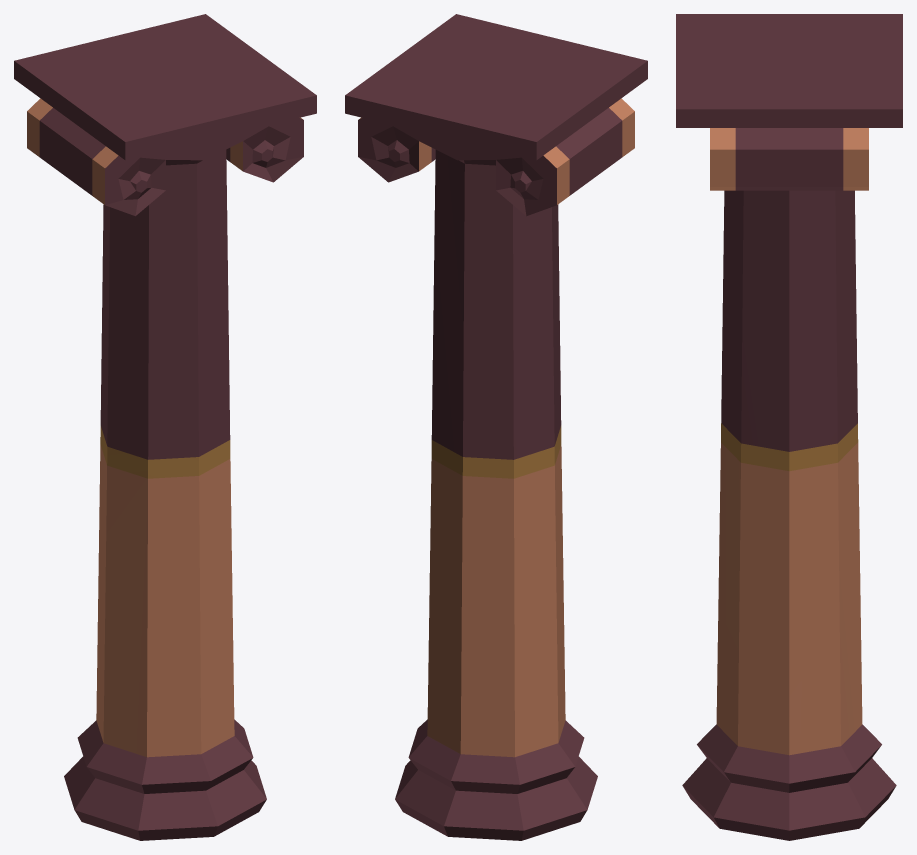
Rendered from empire-pillar-ionic-small-color-empire.glb.
The picture shows the model from 3 angles, left to right: view 1: azimuth 30°, elevation 25°; view 2: azimuth 150°, elevation 25°; view 3: azimuth 270°, elevation 25°; orthographic projection.
Visible parts, largest first — view 1: SM_Pillar_Ionic_Small_Color_Empire; view 2: SM_Pillar_Ionic_Small_Color_Empire; view 3: SM_Pillar_Ionic_Small_Color_Empire.
Boxes of the visible parts, x1,y1,x2,y2 form: SM_Pillar_Ionic_Small_Color_Empire: [14, 14, 316, 840]; SM_Pillar_Ionic_Small_Color_Empire: [345, 14, 647, 840]; SM_Pillar_Ionic_Small_Color_Empire: [676, 14, 902, 840].
Bounding box in the file's own units: 0.8632 × 3 × 0.8355.
